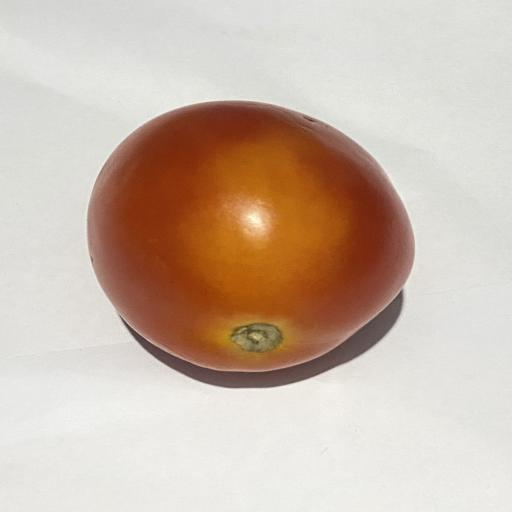ripe: (88, 101, 414, 371)
